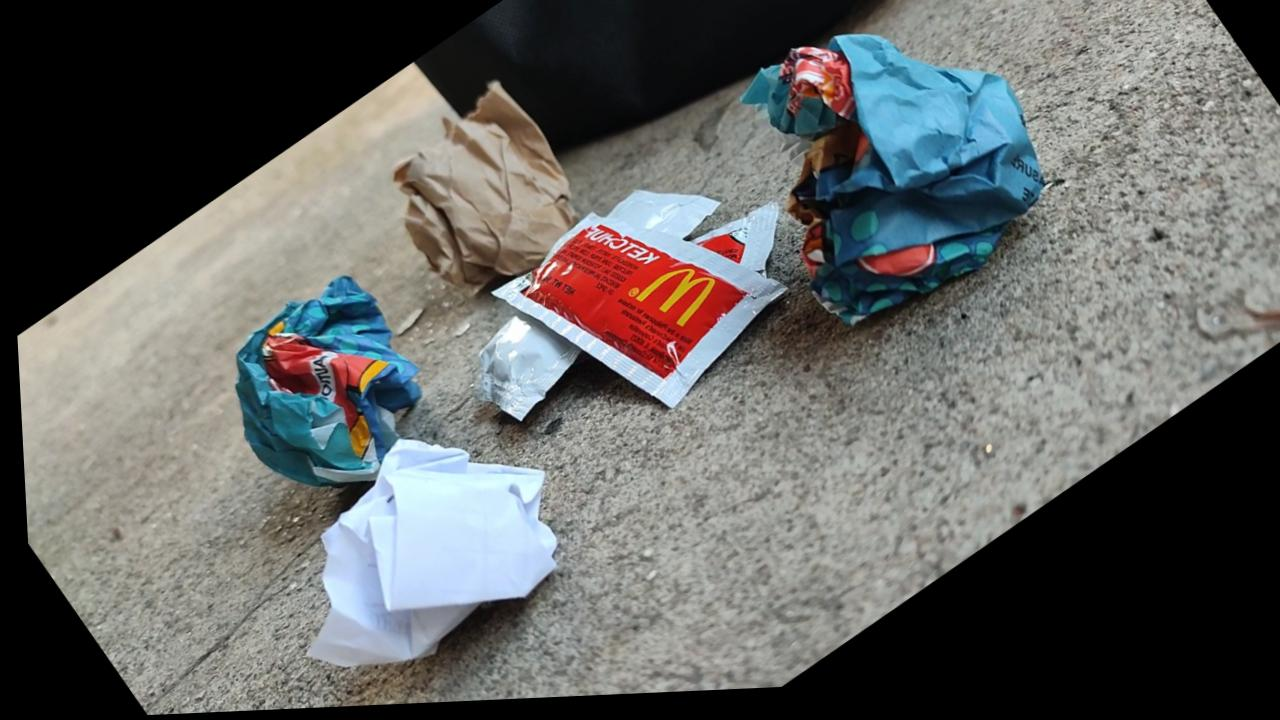paper: (743, 34, 1043, 322), (309, 440, 555, 665), (237, 276, 421, 485), (394, 82, 575, 288)
